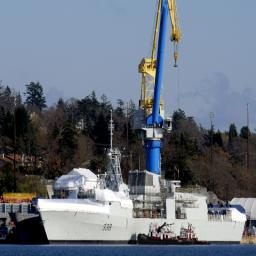Fragata: (29, 112, 249, 248)
